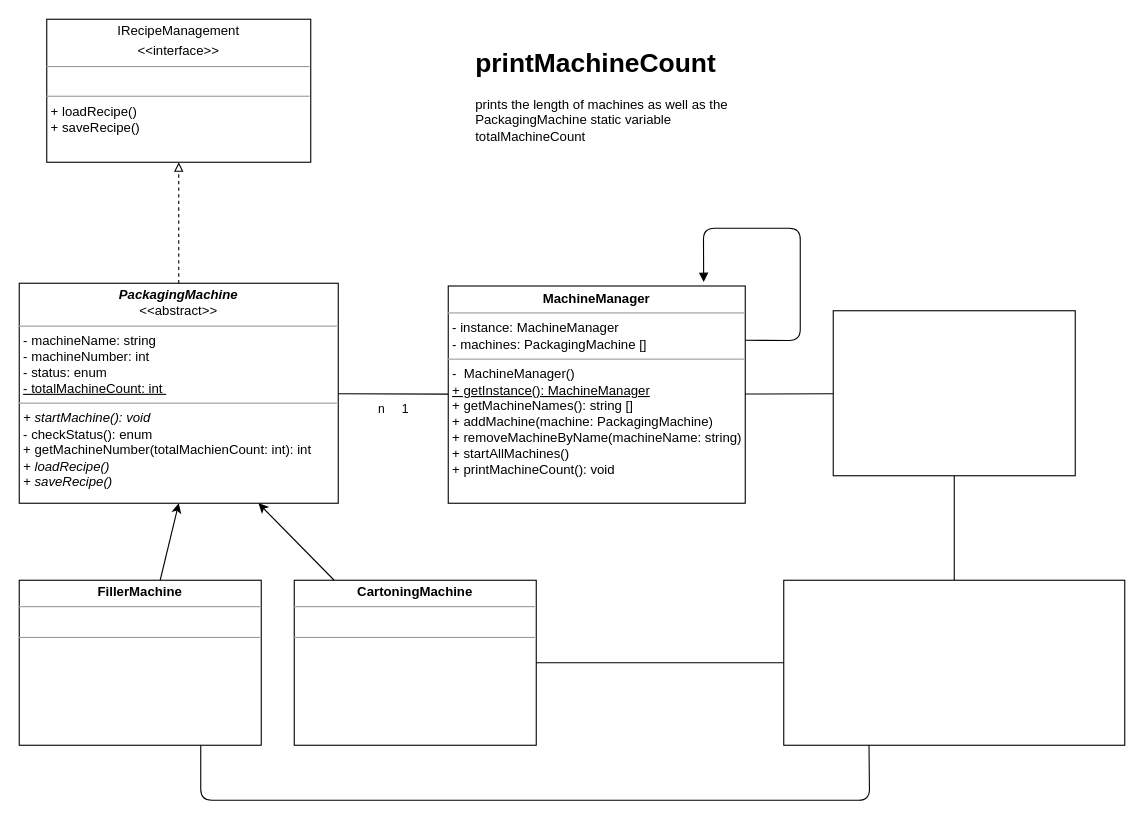
The diagram is 1144 pixels wide and 821 high, and some of its shapes have lost their labels. Here are the shapes that lost their labels. From the top down, the box of each, then its label:
(832, 310, 1075, 476): TestClass + main()
(783, 579, 1125, 745): MachineFactory + getMachine(machineType: string): PackagingMachine
